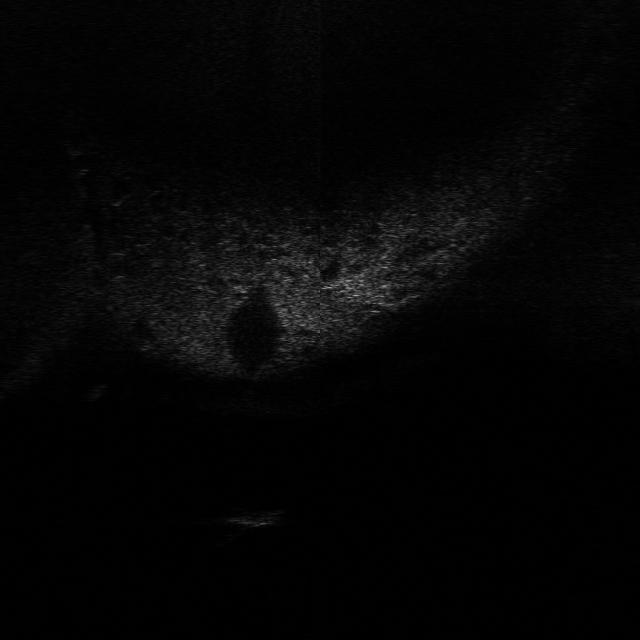cube: (220, 504, 290, 532)
